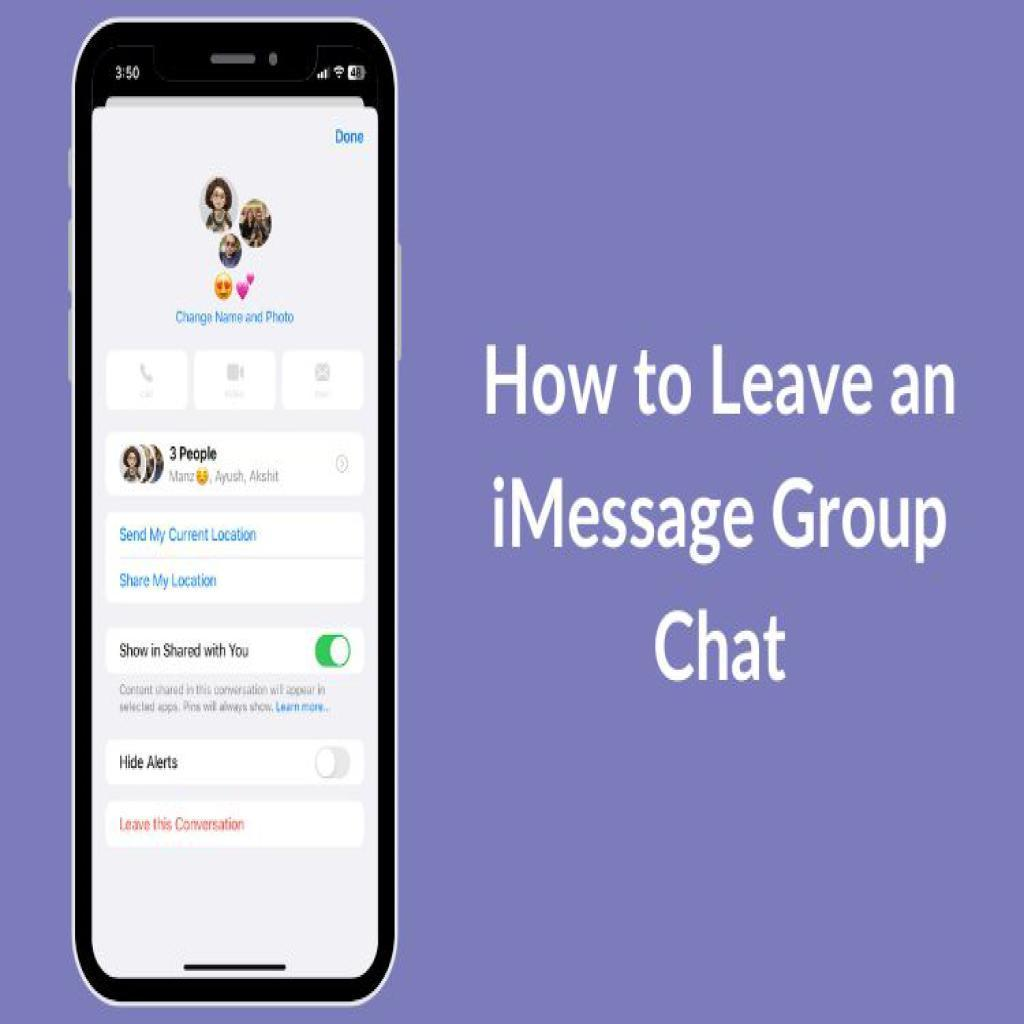switch: (318, 741, 355, 792), (309, 630, 353, 671)
